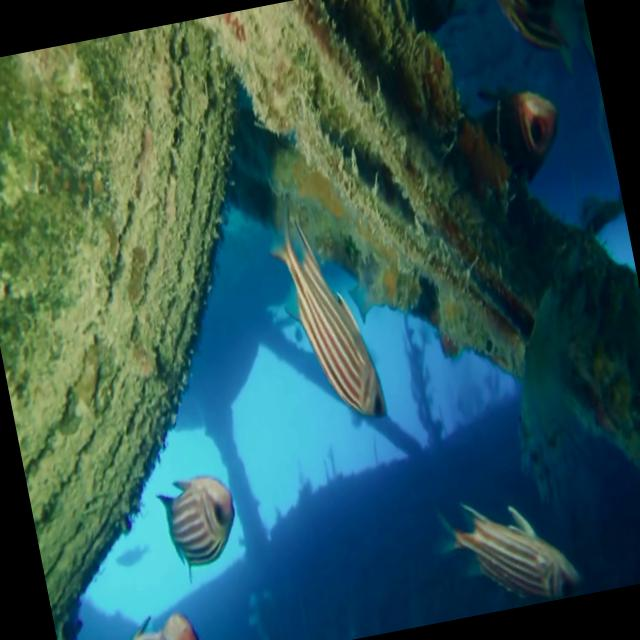Asker Baligi: (258, 183, 388, 435), (421, 458, 582, 622), (152, 468, 248, 588)
